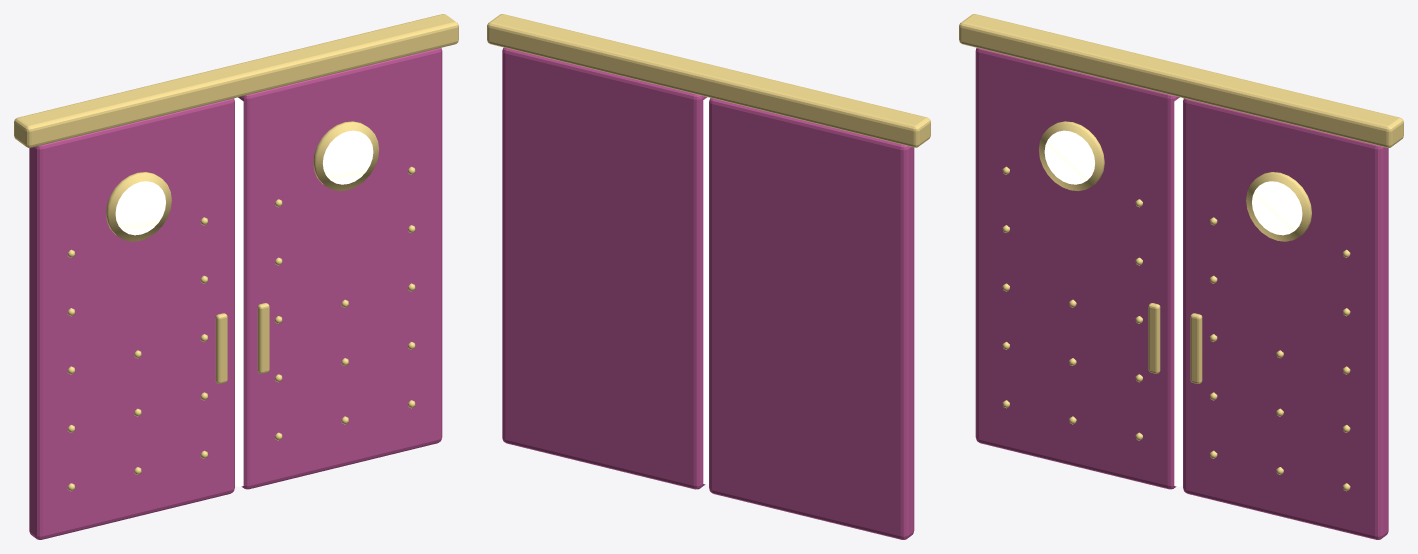
The model's file is pc_palace_doors.glb.
The picture shows the model from 3 angles, left to right: view 1: azimuth 30°, elevation 25°; view 2: azimuth 150°, elevation 25°; view 3: azimuth 330°, elevation 25°; orthographic projection.
Parts seen in each view (by area): view 1: pc_palace_doors; view 2: pc_palace_doors; view 3: pc_palace_doors.
Part boxes in pixels (bbox=[...]): pc_palace_doors: bbox=[14, 14, 458, 539]; pc_palace_doors: bbox=[487, 14, 930, 539]; pc_palace_doors: bbox=[959, 14, 1403, 539].
Bounding box in the file's own units: 3.3 × 3.06 × 0.21.
